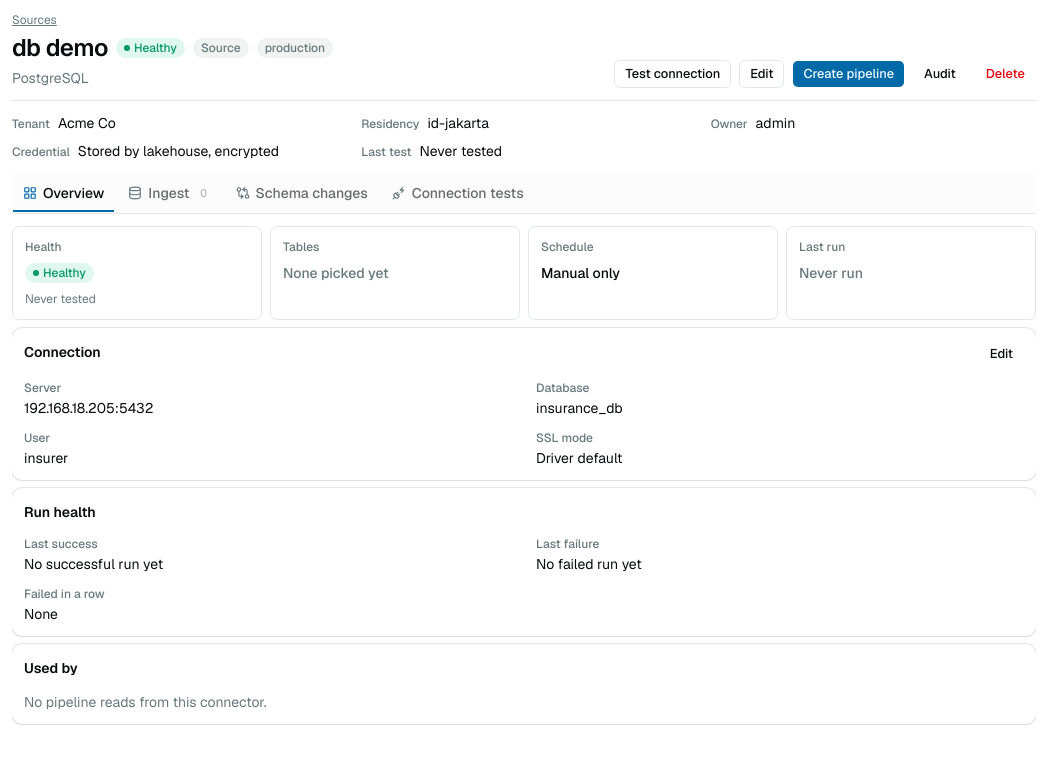
ConnectorDetailPage › the result of Test connection › announces a failure, not a pass, when the probe ran and did not connect, though the request itself succeeded
Click the button "Test connection" at (673, 74), box 614,60 -> 731,88
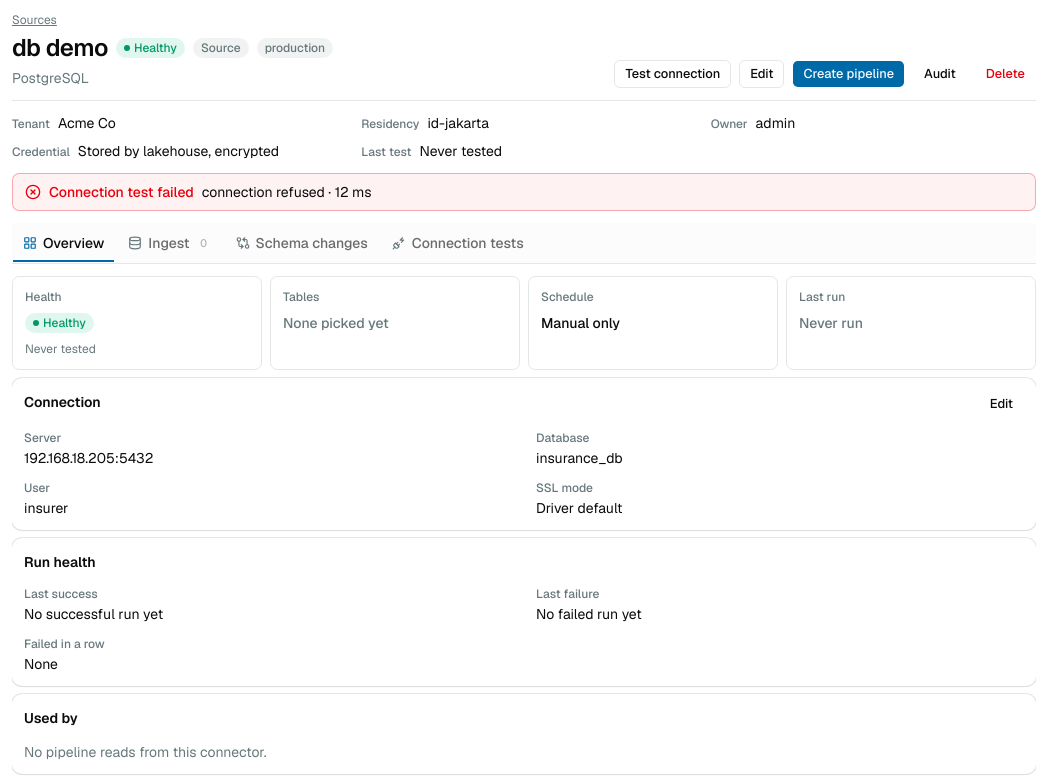
Check: the text "Connection test failed" shows "connection refused · 12 ms", box 12,173 -> 1036,211
